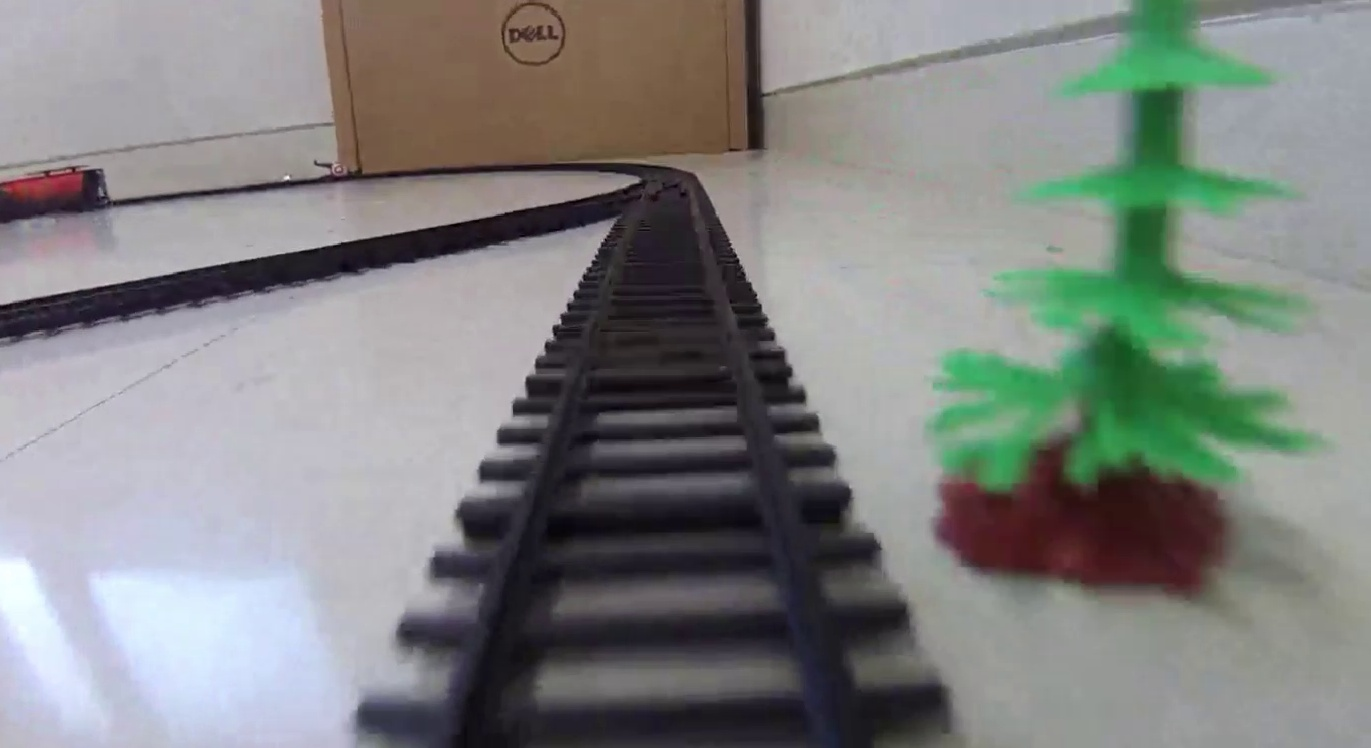tree: (930, 5, 1328, 598)
